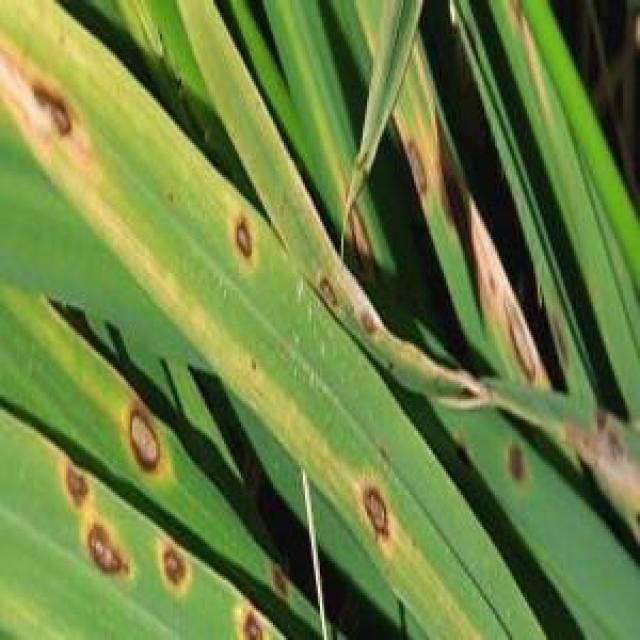Bacterial_Blight: (412, 110, 554, 387)
Brown_Spot: (0, 47, 98, 143), (346, 467, 409, 559), (498, 306, 552, 388), (118, 399, 170, 474), (78, 514, 136, 578), (214, 211, 269, 273), (149, 536, 199, 597), (588, 407, 626, 461), (63, 459, 101, 508), (228, 603, 270, 640), (501, 439, 534, 484), (403, 138, 427, 190), (353, 306, 388, 341), (269, 566, 296, 600), (316, 278, 340, 312)
